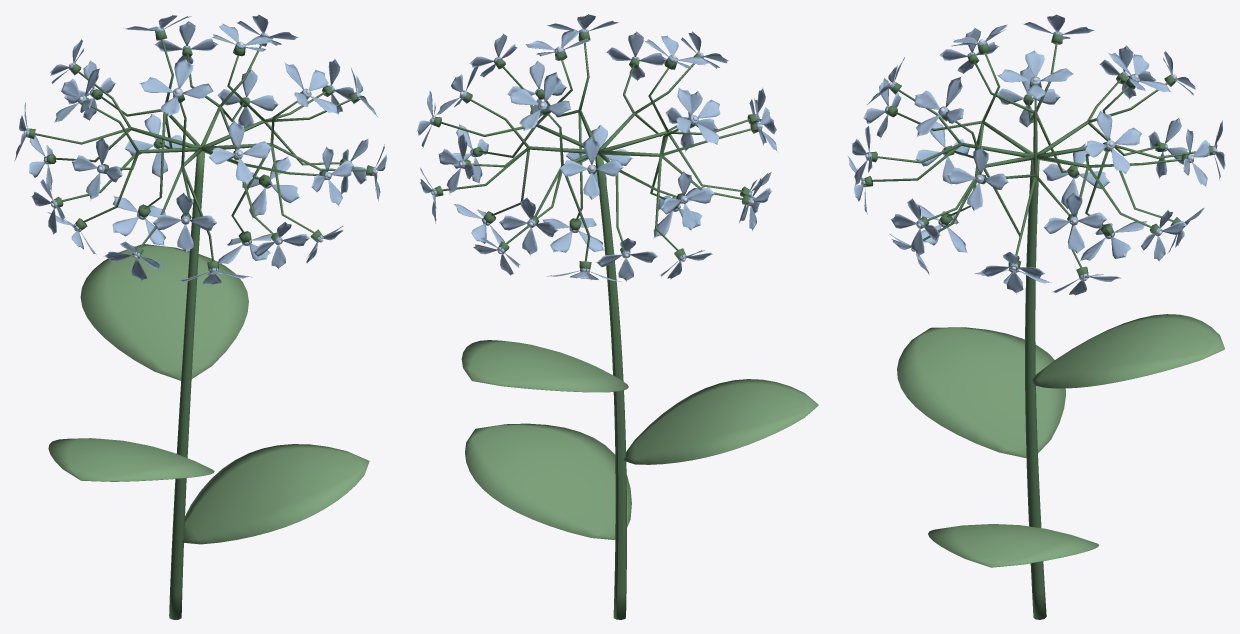
File: hydrangea-rare-v2.glb
3 views of the same model, side by side, from view 1: azimuth 30°, elevation 25°; view 2: azimuth 150°, elevation 25°; view 3: azimuth 270°, elevation 25° (orthographic). The views are drawn at different scales.
Visible parts, largest first — view 1: hydrangea-rare-v2-leaf, hydrangea-rare-v2-petal, hydrangea-rare-v2-stem; view 2: hydrangea-rare-v2-leaf, hydrangea-rare-v2-petal, hydrangea-rare-v2-stem; view 3: hydrangea-rare-v2-leaf, hydrangea-rare-v2-petal, hydrangea-rare-v2-stem.
Boxes of the visible parts, <box> form: hydrangea-rare-v2-leaf: <box>48,244,369,544</box>; hydrangea-rare-v2-petal: <box>14,14,387,284</box>; hydrangea-rare-v2-stem: <box>26,29,374,619</box>; hydrangea-rare-v2-leaf: <box>461,340,818,540</box>; hydrangea-rare-v2-petal: <box>417,14,777,281</box>; hydrangea-rare-v2-stem: <box>432,30,759,619</box>; hydrangea-rare-v2-leaf: <box>897,314,1224,567</box>; hydrangea-rare-v2-petal: <box>848,14,1225,295</box>; hydrangea-rare-v2-stem: <box>863,32,1214,619</box>.
Bounding box in the file's own units: 1.01 × 1.65 × 0.9686.
